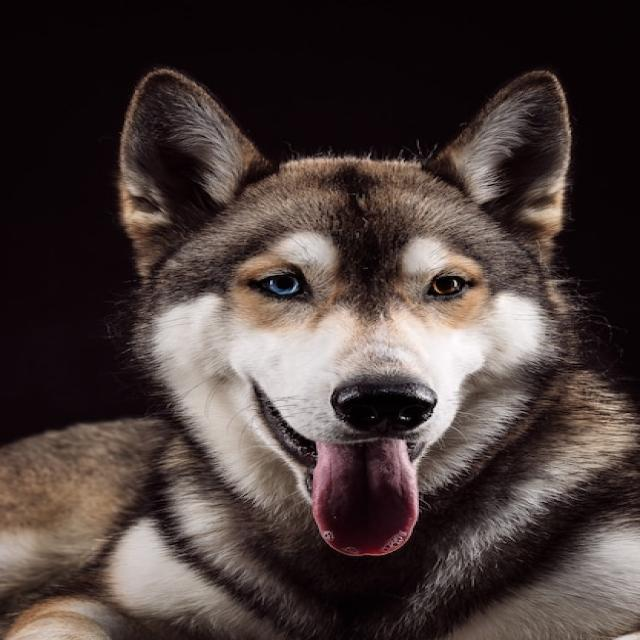Dog: (0, 67, 640, 640)
